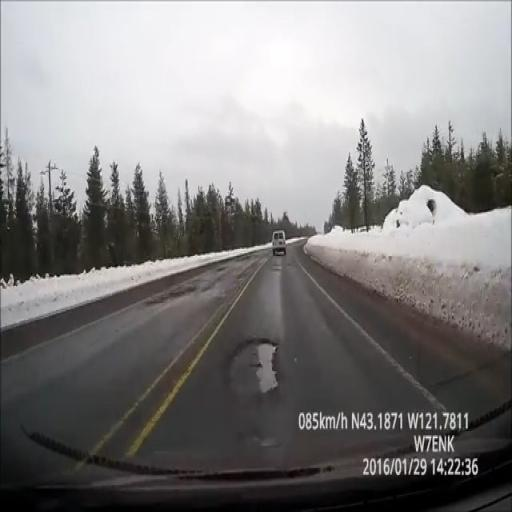Potholes: (230, 327, 299, 430)
